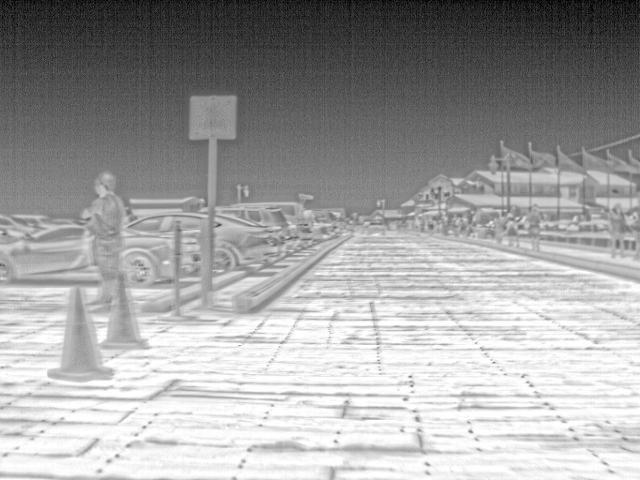car: (1, 223, 81, 284), (223, 200, 310, 246), (217, 214, 278, 274), (220, 209, 295, 251), (125, 230, 172, 287), (129, 209, 205, 234), (178, 240, 200, 279), (367, 218, 388, 238), (313, 222, 335, 239)
person: (85, 174, 127, 315), (606, 203, 629, 259), (526, 202, 544, 250), (503, 214, 523, 248), (627, 207, 639, 260), (493, 213, 510, 246)
